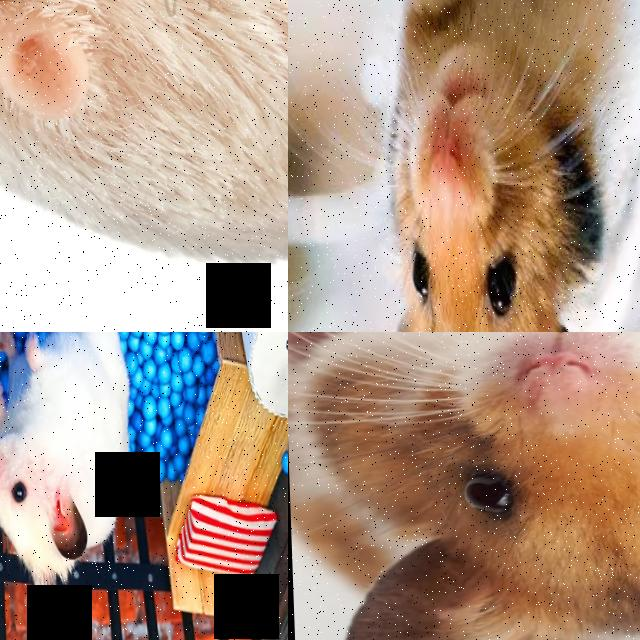hamster: (288, 332, 640, 640), (363, 0, 640, 332), (0, 0, 288, 282), (0, 332, 147, 612)
